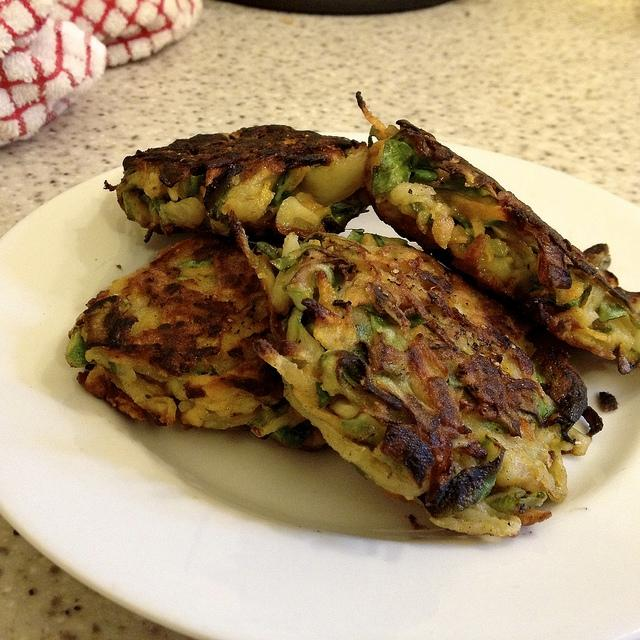broccoli: (371, 139, 438, 197), (484, 486, 548, 516), (269, 244, 324, 272), (65, 328, 96, 368), (286, 282, 314, 312)
onion: (228, 210, 287, 340), (299, 142, 369, 206), (254, 339, 322, 398), (222, 169, 278, 223), (190, 377, 262, 419), (276, 196, 327, 238), (251, 406, 307, 438), (158, 197, 206, 229), (302, 298, 354, 326), (288, 262, 335, 290), (400, 194, 449, 218), (204, 351, 238, 379), (202, 414, 256, 430), (432, 214, 454, 249), (108, 362, 136, 381), (146, 401, 168, 412), (104, 180, 118, 191)
